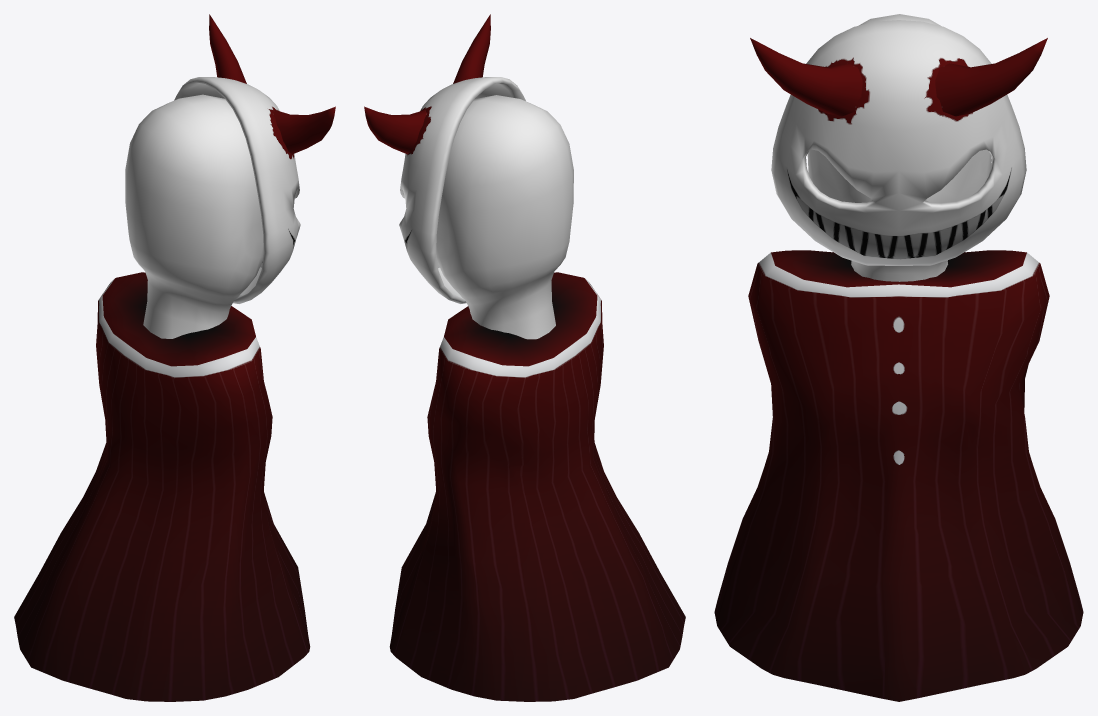
File: Enemy_Hatred.fbx
3 views of the same model, side by side, from view 1: azimuth 30°, elevation 25°; view 2: azimuth 150°, elevation 25°; view 3: azimuth 270°, elevation 25° (orthographic). The views are drawn at different scales.
Visible parts, largest first — view 1: Body_Hatred, Head_Hatred, Mask_Hatred; view 2: Body_Hatred, Head_Hatred, Mask_Hatred; view 3: Body_Hatred, Mask_Hatred, Head_Hatred.
Boxes of the visible parts, x1,y1,x2,y2 form: Body_Hatred: [14, 272, 310, 701]; Head_Hatred: [125, 94, 263, 338]; Mask_Hatred: [174, 14, 335, 303]; Body_Hatred: [389, 272, 685, 701]; Head_Hatred: [436, 95, 573, 339]; Mask_Hatred: [364, 14, 525, 303]; Body_Hatred: [714, 250, 1083, 701]; Mask_Hatred: [750, 20, 1047, 265]; Head_Hatred: [807, 14, 991, 281].
Size of the model in its own units: 90.17 by 89.84 by 174.
2 materials, 1 textured.
